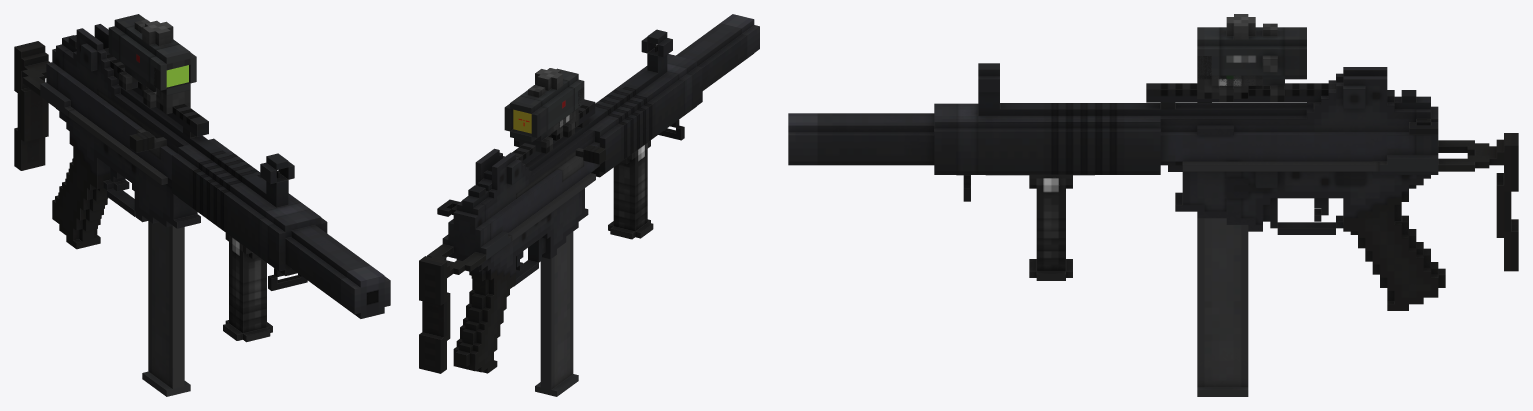
Rendered from RD_DAEWOO_K7.glb.
3 renders of one model, left to right at view 1: azimuth 30°, elevation 25°; view 2: azimuth 150°, elevation 25°; view 3: azimuth 270°, elevation 25°, orthographic. The views are drawn at different scales.
Visible parts, largest first — view 1: DAEWOO_K7, DAEWOO_K7_CLIP, SCOPE_TASCO, GRIP1, SCOPE_AIMPOINT, DAEWOO_K7_BOLT; view 2: DAEWOO_K7, DAEWOO_K7_CLIP, SCOPE_TASCO, GRIP1, SCOPE_AIMPOINT, DAEWOO_K7_BOLT; view 3: DAEWOO_K7, DAEWOO_K7_CLIP, SCOPE_TASCO, GRIP1, SCOPE_AIMPOINT.
Boxes of the visible parts, box(x1,y1,x2,y2) form: DAEWOO_K7: box(14, 24, 390, 318); DAEWOO_K7_CLIP: box(142, 220, 190, 396); SCOPE_TASCO: box(108, 14, 196, 107); GRIP1: box(223, 233, 272, 342); SCOPE_AIMPOINT: box(135, 58, 190, 114); DAEWOO_K7_BOLT: box(129, 131, 166, 152); DAEWOO_K7: box(419, 14, 759, 373); DAEWOO_K7_CLIP: box(535, 232, 578, 396); SCOPE_TASCO: box(504, 68, 584, 153); GRIP1: box(608, 140, 653, 239); SCOPE_AIMPOINT: box(548, 87, 584, 140); DAEWOO_K7_BOLT: box(575, 145, 605, 164); DAEWOO_K7: box(788, 63, 1518, 310); DAEWOO_K7_CLIP: box(1197, 218, 1248, 396); SCOPE_TASCO: box(1197, 14, 1306, 102); GRIP1: box(986, 175, 1094, 280); SCOPE_AIMPOINT: box(1197, 56, 1262, 98).
Bounding box in the file's own units: 0.1181 × 0.5512 × 0.9843.
Materials: 6 (6 with a texture image).
